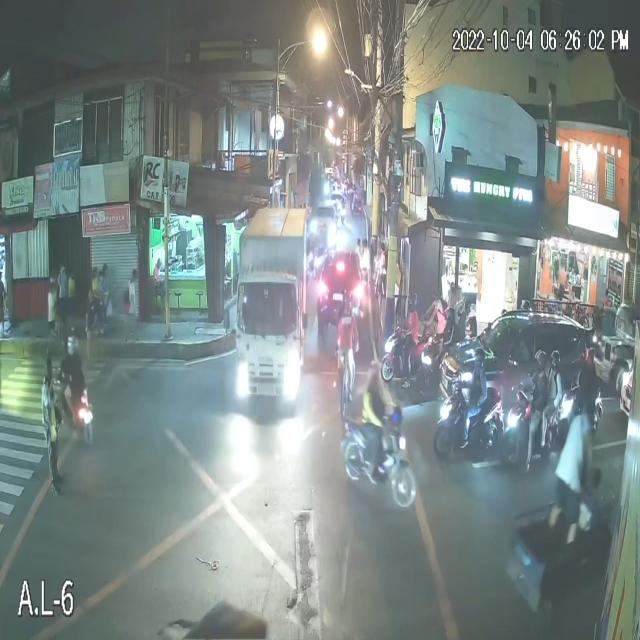Full-Faced: (469, 347, 486, 376), (584, 345, 598, 369), (82, 342, 92, 371), (338, 293, 352, 312), (369, 362, 382, 382), (407, 292, 418, 313), (70, 334, 78, 354)
Half-Faced: (442, 306, 457, 334), (545, 344, 560, 372), (533, 351, 547, 374)
